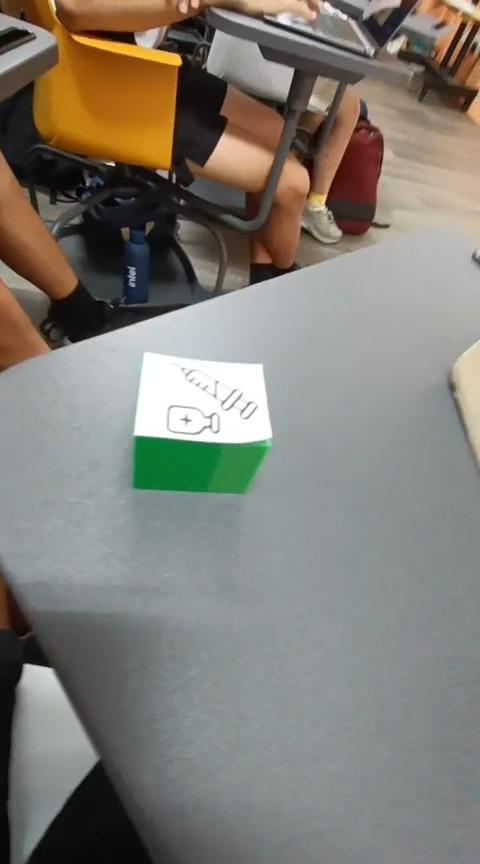antiseptic cream: (130, 350, 273, 496)
